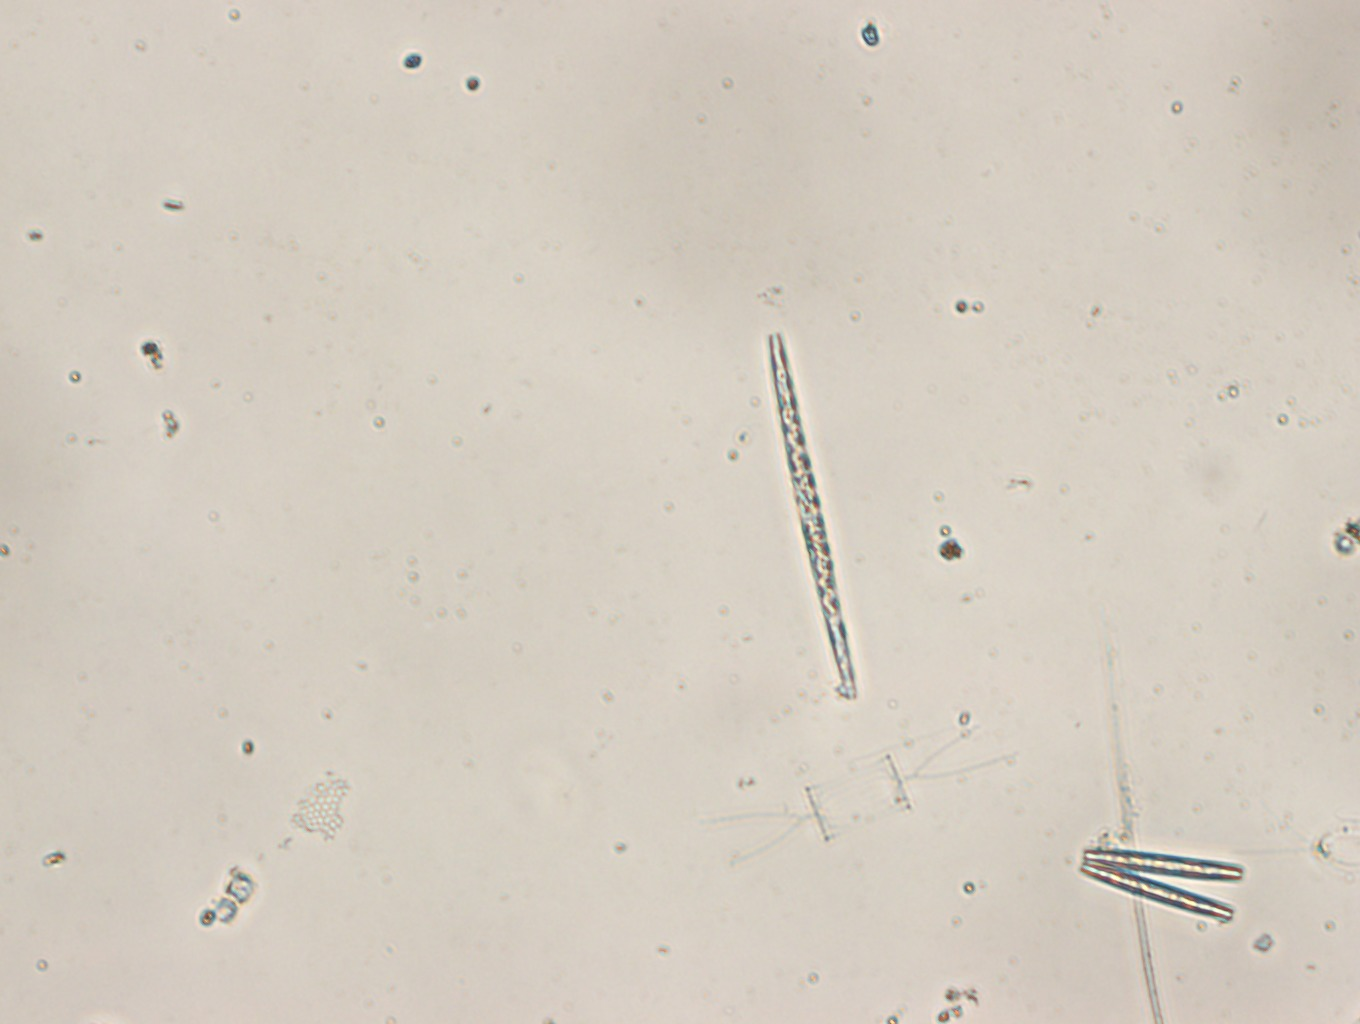chaetoceros: (695, 710, 1027, 863)
thalassionema frauenfeldii: (750, 328, 870, 700), (1072, 839, 1248, 931)
